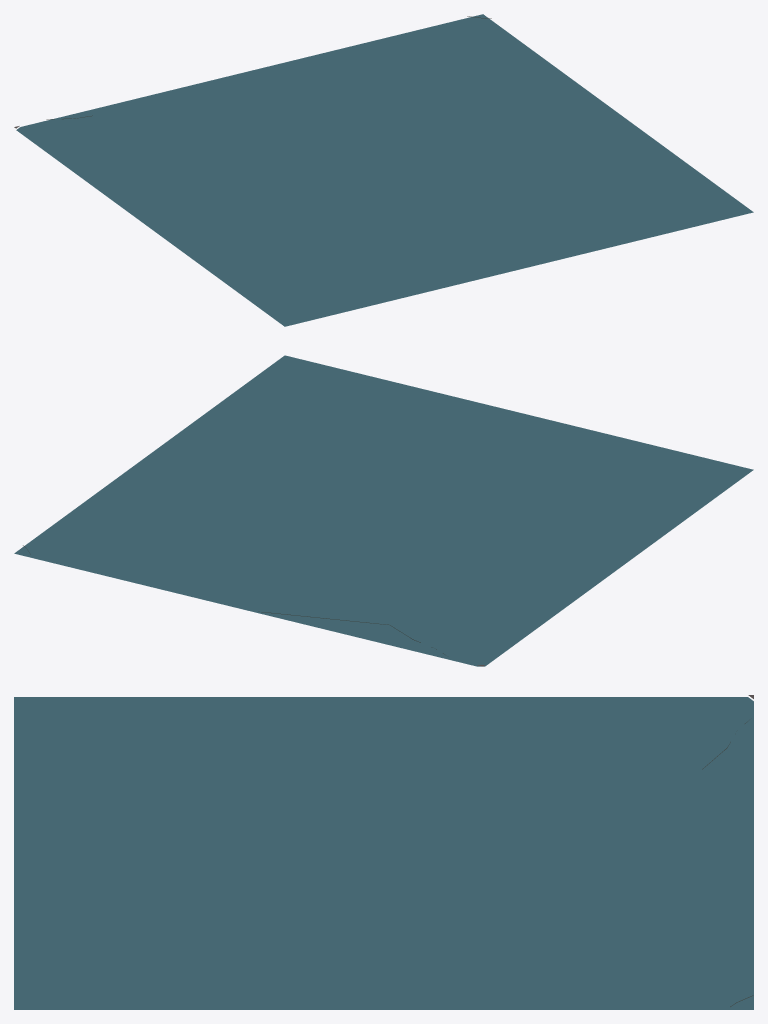
3 renders of one model, top to bottom at view 1: azimuth 30°, elevation 25°; view 2: azimuth 150°, elevation 25°; view 3: azimuth 270°, elevation 25°, orthographic. The views are drawn at different scales.
Parts seen in each view (by area): view 1: c_m22_m02; view 2: c_m22_m02; view 3: c_m22_m02.
Boxes of the visible parts, bbox=[...] form: c_m22_m02: bbox=[14, 14, 753, 326]; c_m22_m02: bbox=[14, 355, 753, 666]; c_m22_m02: bbox=[14, 695, 753, 1009].
Size of the model in its own units: 128 by 0.62 by 128.
